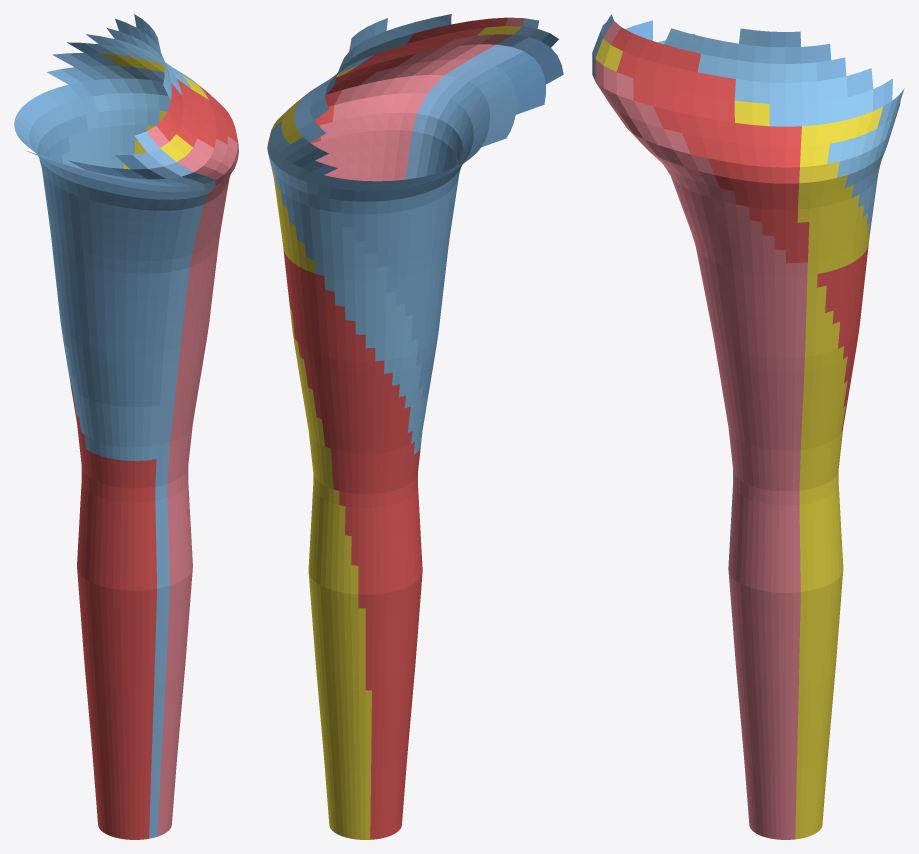
File: leg_3d_colored.obj
3 renders of one model, left to right at view 1: azimuth 30°, elevation 25°; view 2: azimuth 150°, elevation 25°; view 3: azimuth 270°, elevation 25°, orthographic.
Parts seen in each view (by area): view 1: L2, L4, S1, L3, S2, L5, L1; view 2: L4, L2, L5, L3, S1, S2, L1; view 3: S1, L5, L4, L3, L2, S2.
Boxes of the visible parts, left/top/right/bottom form: L2: left=14, top=14, right=191, bottom=407; L4: left=70, top=79, right=237, bottom=839; S1: left=146, top=126, right=238, bottom=836; L3: left=56, top=32, right=197, bottom=460; S2: left=133, top=131, right=215, bottom=838; L5: left=101, top=53, right=208, bottom=169; L1: left=50, top=155, right=179, bottom=182; L4: left=283, top=17, right=507, bottom=839; L2: left=290, top=23, right=516, bottom=400; L5: left=267, top=26, right=522, bottom=839; L3: left=267, top=14, right=451, bottom=454; S1: left=311, top=17, right=524, bottom=181; S2: left=405, top=18, right=549, bottom=179; L1: left=496, top=33, right=563, bottom=114; S1: left=595, top=21, right=807, bottom=839; L5: left=595, top=39, right=882, bottom=839; L4: left=611, top=27, right=868, bottom=467; L3: left=664, top=28, right=891, bottom=242; L2: left=755, top=30, right=904, bottom=150; S2: left=592, top=14, right=749, bottom=825.
Bounding box in the file's own units: 0.2432 × 0.84 × 0.2985.
